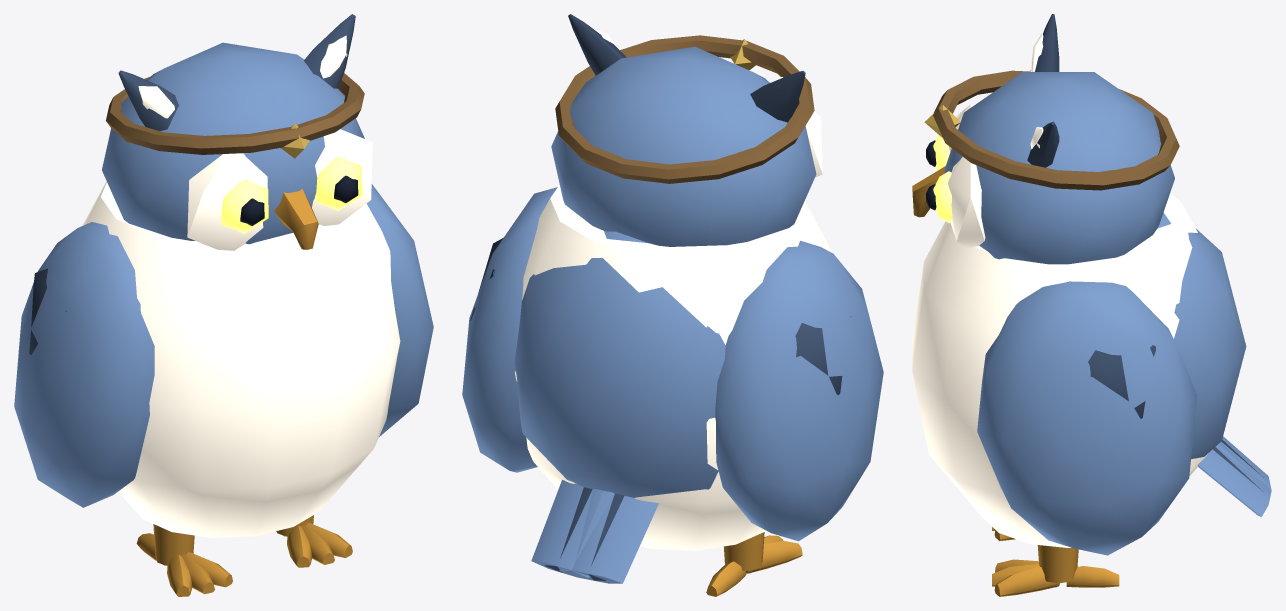
File: npc_animal_owl.glb
3 views of the same model, side by side, from view 1: azimuth 30°, elevation 25°; view 2: azimuth 150°, elevation 25°; view 3: azimuth 270°, elevation 25° (orthographic). The views are drawn at different scales.
Parts seen in each view (by area): view 1: npc_animal_owl; view 2: npc_animal_owl; view 3: npc_animal_owl.
Part boxes in pixels (<box>): npc_animal_owl: <box>14,14,433,596</box>; npc_animal_owl: <box>462,14,883,596</box>; npc_animal_owl: <box>912,14,1271,596</box>.
Size of the model in its own units: 0.3967 by 0.5232 by 0.3484.
